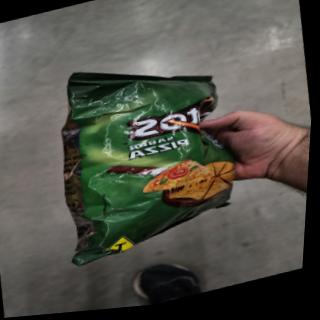food-box: (30, 33, 221, 275)
